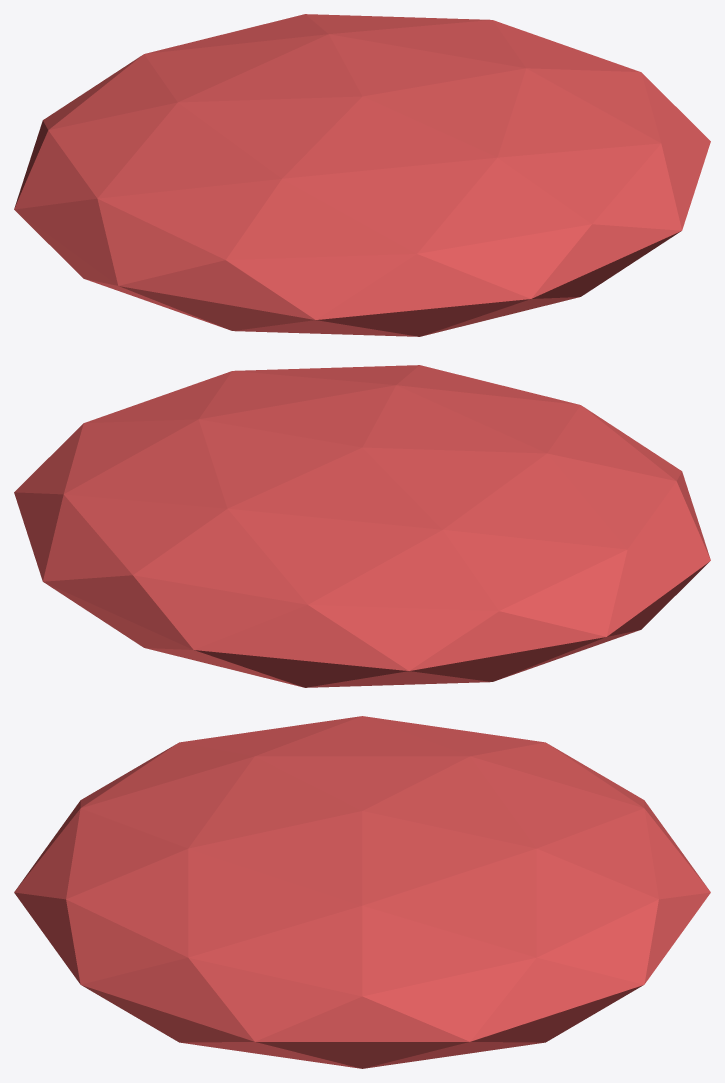
The model's file is liha 4.fbx.
3 views of the same model, one above another, from view 1: azimuth 30°, elevation 25°; view 2: azimuth 150°, elevation 25°; view 3: azimuth 270°, elevation 25° (orthographic). The views are drawn at different scales.
Visible parts, largest first — view 1: Icosphere.001; view 2: Icosphere.001; view 3: Icosphere.001.
Boxes of the visible parts, x1,y1,x2,y2 form: Icosphere.001: (14, 14, 710, 336); Icosphere.001: (14, 365, 710, 687); Icosphere.001: (14, 716, 710, 1068).
Bounding box in the file's own units: 77.9 × 19.83 × 76.82.
